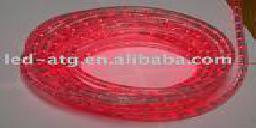LED: (20, 4, 242, 118)
